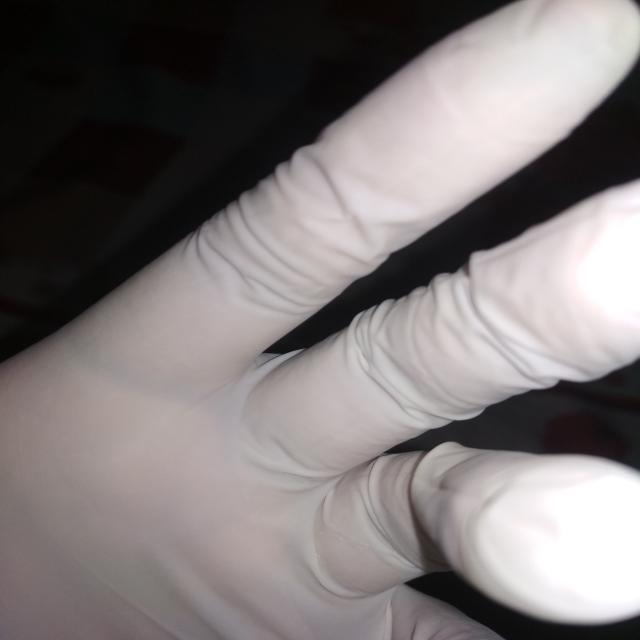glove_hand: (2, 1, 636, 635)
